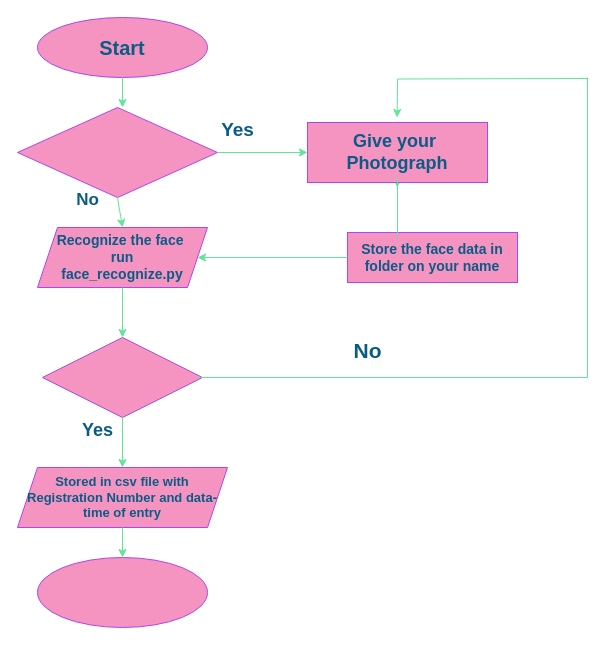
Some shapes in this 613 by 645 pixel diagram are drawn without their labels. Here are the shapes that lost their labels. From the top down, the centre of each, then its label:
At point 117,152: "New User? run create_dataset_py".
At point 122,377: "Face Recognize".
At point 122,592: "End".
